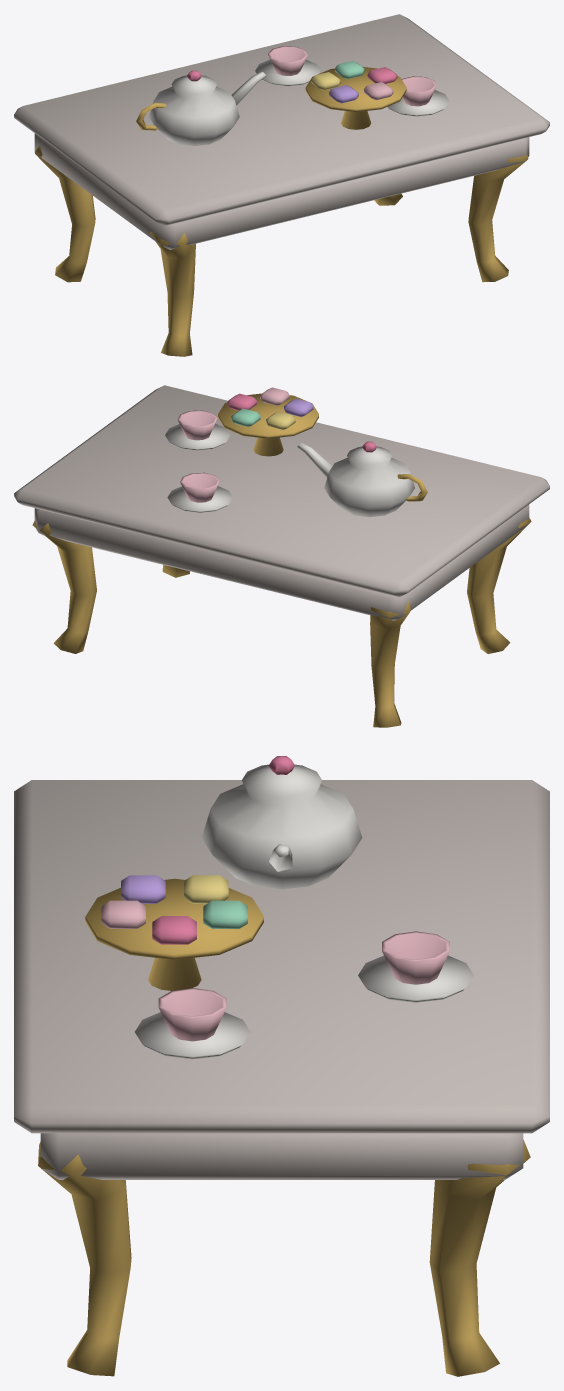
The model's file is table_tea.glb.
3 renders of one model, top to bottom at view 1: azimuth 30°, elevation 25°; view 2: azimuth 150°, elevation 25°; view 3: azimuth 270°, elevation 25°, orthographic. The views are drawn at different scales.
Visible parts, largest first — view 1: table_tea; view 2: table_tea; view 3: table_tea.
Part boxes in pixels (x1=…): table_tea: x1=14, y1=14, x2=549, y2=356; table_tea: x1=14, y1=385, x2=549, y2=727; table_tea: x1=14, y1=756, x2=549, y2=1376.
Size of what is drawn, in the model's own units: 0.9 by 0.5 by 0.6.
